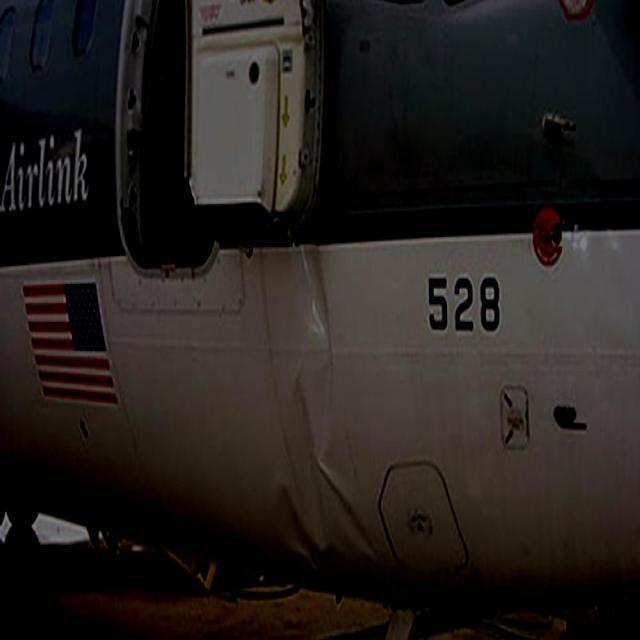dent: (270, 244, 373, 572)
